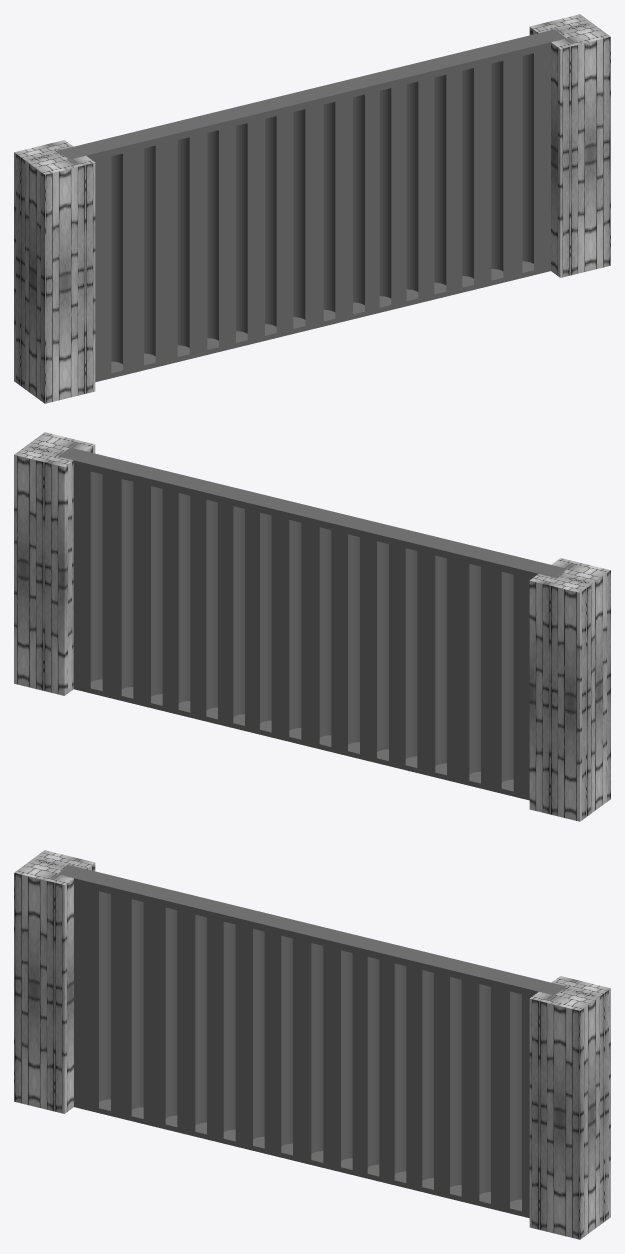
The model's file is Gate.fbx.
3 views of the same model, one above another, from view 1: azimuth 30°, elevation 25°; view 2: azimuth 150°, elevation 25°; view 3: azimuth 330°, elevation 25° (orthographic).
Parts seen in each view (by area): view 1: Cube.001, Cube; view 2: Cube.001, Cube; view 3: Cube.001, Cube.
Boxes of the visible parts, x1,y1,x2,y2 form: Cube.001: (57, 29, 566, 382); Cube: (14, 14, 610, 403); Cube.001: (58, 447, 566, 800); Cube: (14, 432, 610, 821); Cube.001: (57, 865, 566, 1218); Cube: (14, 850, 610, 1239).
Size of the model in its own units: 518 by 200 by 48.95.
